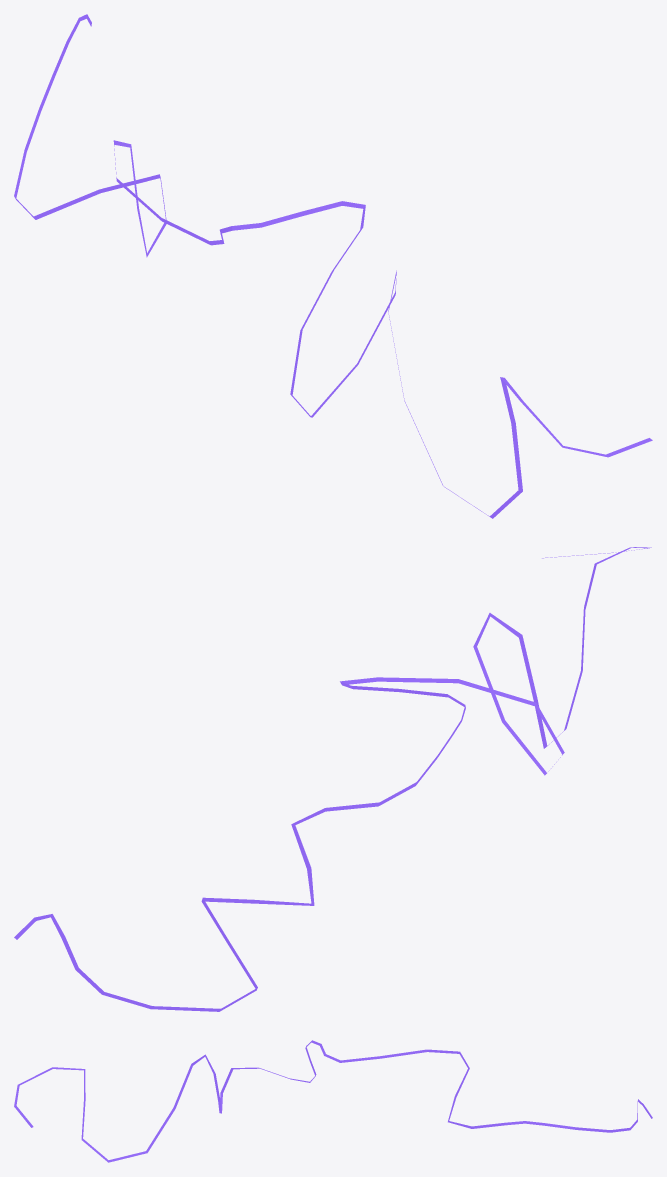
The model's file is villllám.glb.
The picture shows the model from 3 angles, top to bottom: view 1: azimuth 30°, elevation 25°; view 2: azimuth 150°, elevation 25°; view 3: azimuth 270°, elevation 25°; orthographic projection. The views are drawn at different scales.
Visible parts, largest first — view 1: Plane; view 2: Plane; view 3: Plane.
Boxes of the visible parts, x1=… form: Plane: x1=14, y1=14, x2=652, y2=518; Plane: x1=14, y1=547, x2=651, y2=1011; Plane: x1=14, y1=1040, x2=652, y2=1162.
Size of the model in its own units: 1.87 by 1.75 by 9.59.
